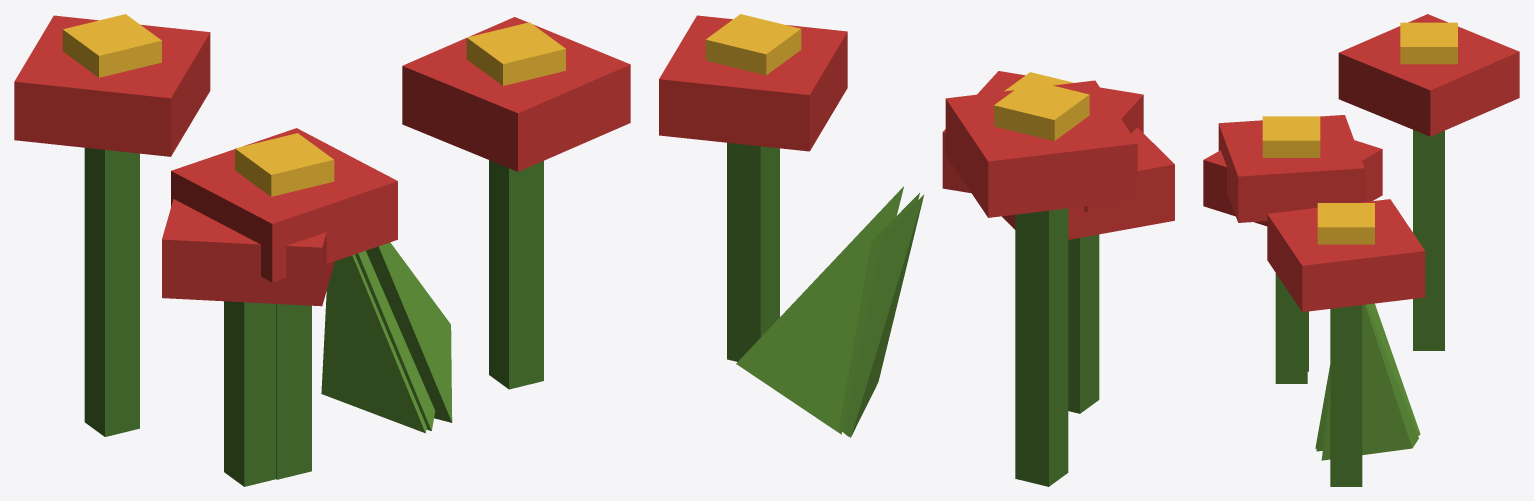
Rendered from D_MedFlowersRed.fbx.
3 renders of one model, left to right at view 1: azimuth 30°, elevation 25°; view 2: azimuth 150°, elevation 25°; view 3: azimuth 270°, elevation 25°, orthographic. The views are drawn at different scales.
Visible parts, largest first — view 1: M_FlowersRed; view 2: M_FlowersRed; view 3: M_FlowersRed.
Part boxes in pixels (x1,y1,x2,y2): M_FlowersRed: [14, 14, 630, 486]; M_FlowersRed: [659, 14, 1174, 486]; M_FlowersRed: [1203, 14, 1519, 486].
Bounding box in the file's own units: 0.384 × 0.2765 × 0.247.
1 material, 1 textured.
